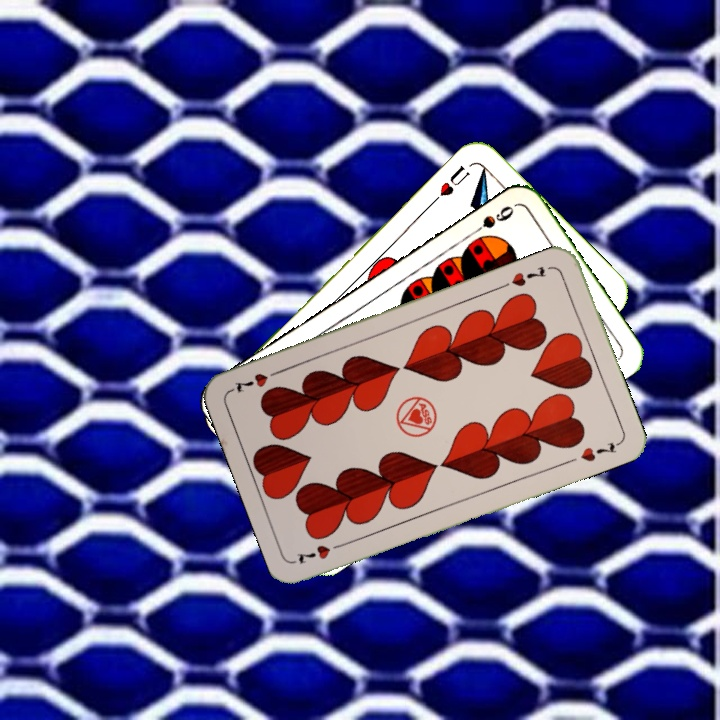H7: (293, 538, 349, 567), (507, 262, 549, 289)
HU: (435, 161, 473, 199)
S9: (465, 201, 517, 239)
